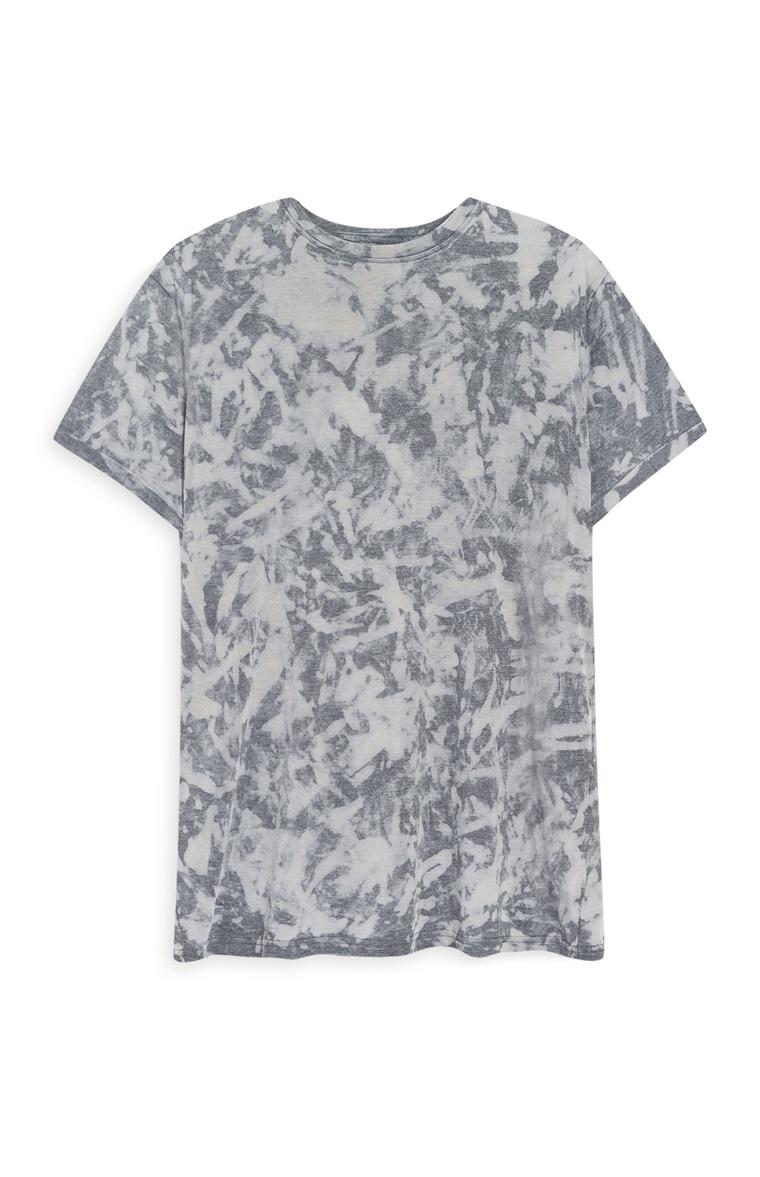teeshirt: (36, 172, 727, 974)
